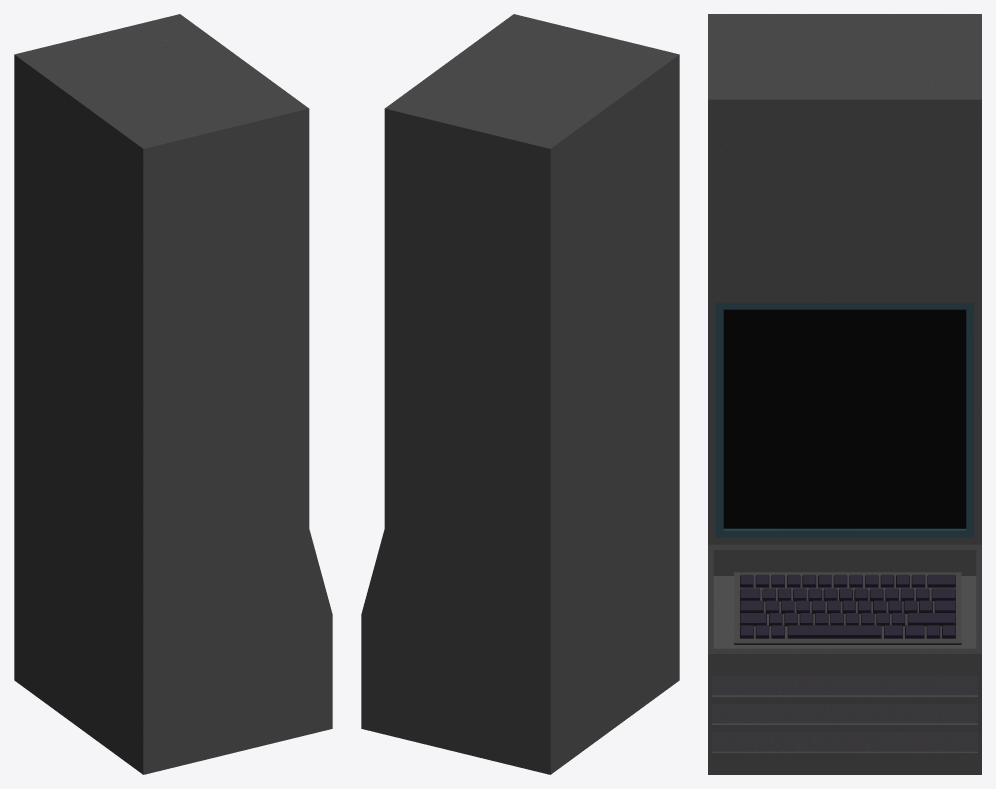
Rendered from RS_universal_PS.fbx.
The picture shows the model from 3 angles, left to right: view 1: azimuth 30°, elevation 25°; view 2: azimuth 150°, elevation 25°; view 3: azimuth 270°, elevation 25°; orthographic projection. The views are drawn at different scales.
Visible parts, largest first — view 1: RS_univeral_PS; view 2: RS_univeral_PS; view 3: RS_univeral_PS.
Part boxes in pixels (x1,y1,x2,y2): RS_univeral_PS: (14, 14, 332, 774); RS_univeral_PS: (361, 14, 679, 774); RS_univeral_PS: (708, 14, 981, 774).
Bounding box in the file's own units: 88.84 × 281 × 105.
